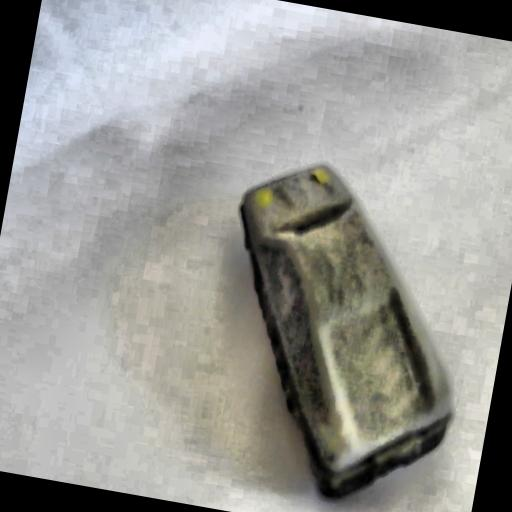normal_car: (180, 135, 501, 512)
